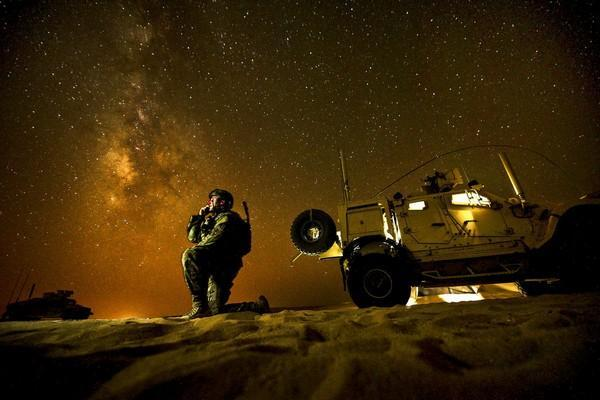armored_car: (290, 146, 600, 309), (0, 283, 95, 323)
person: (178, 186, 250, 319)
